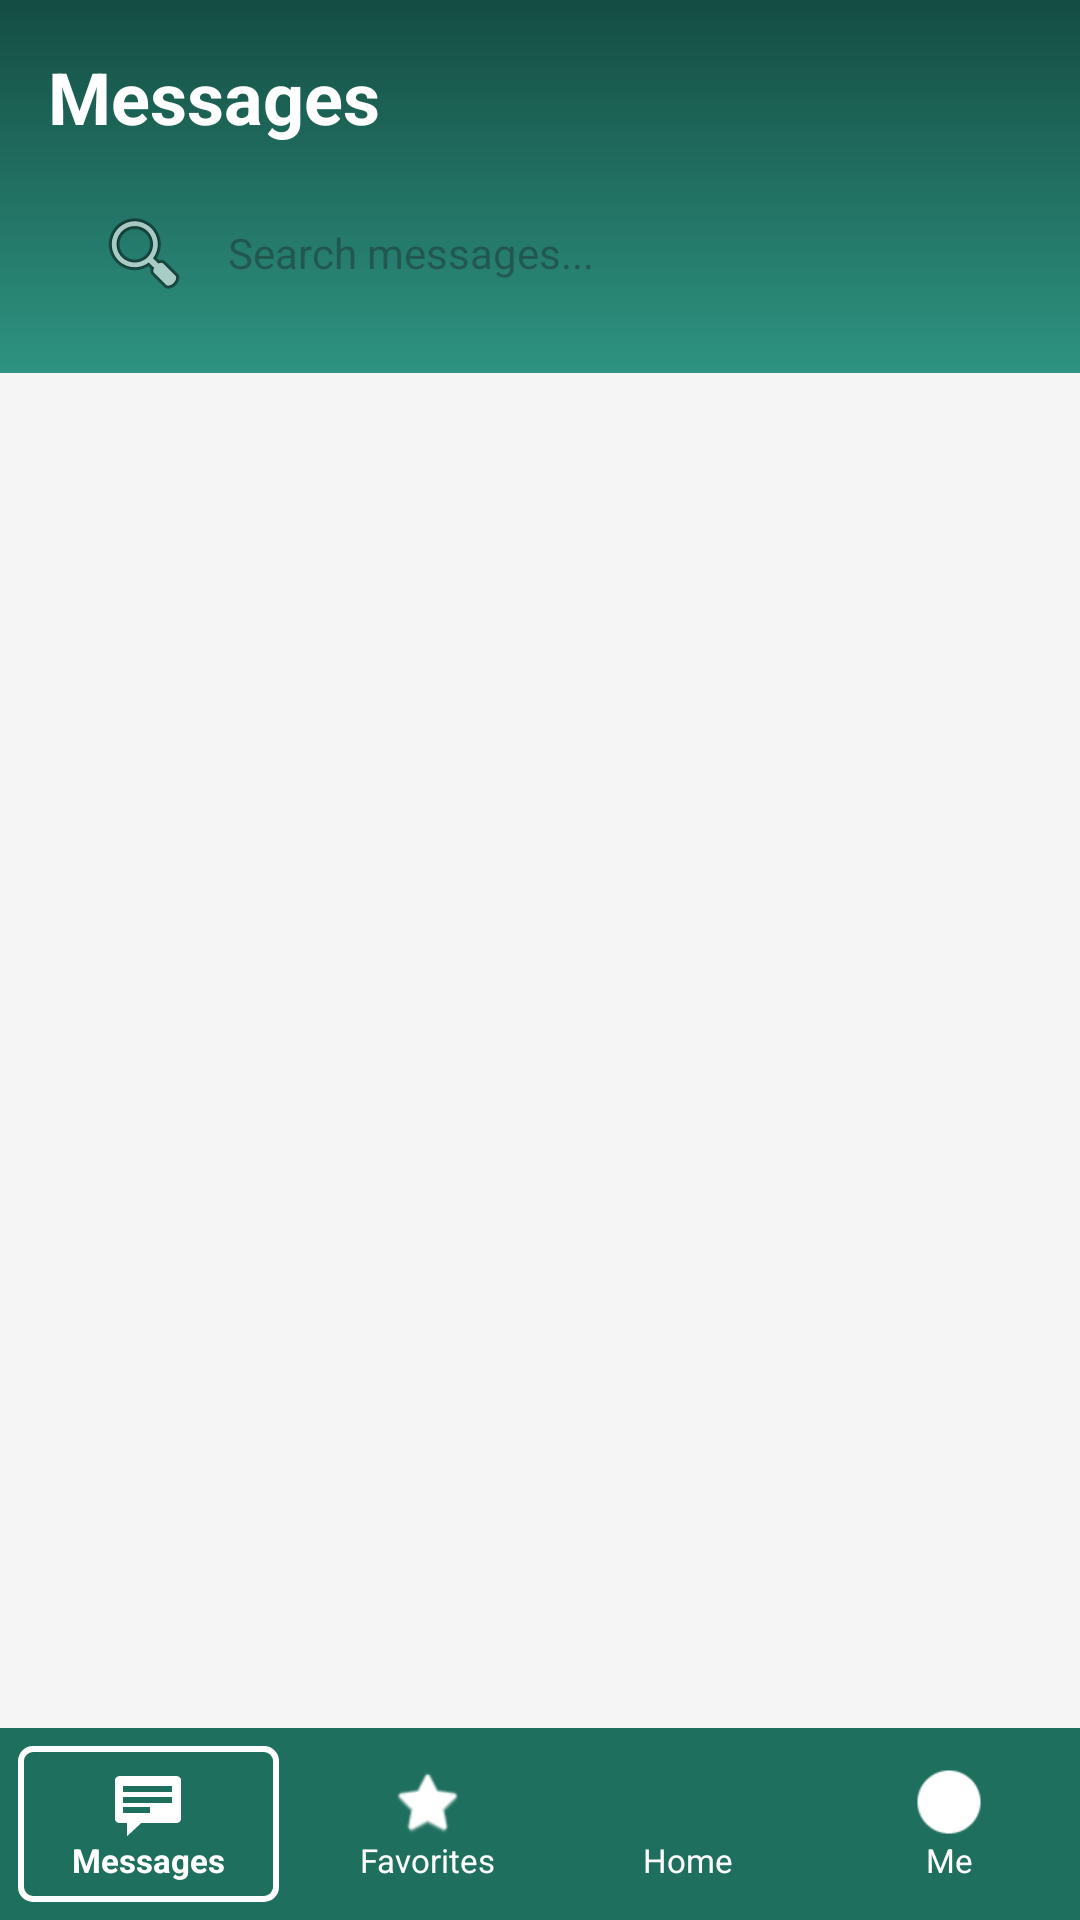

Where icons sit on this 1080px×1920px app screen, as (x1, y1, x2, y2):
star on: (398, 1773, 458, 1832)
